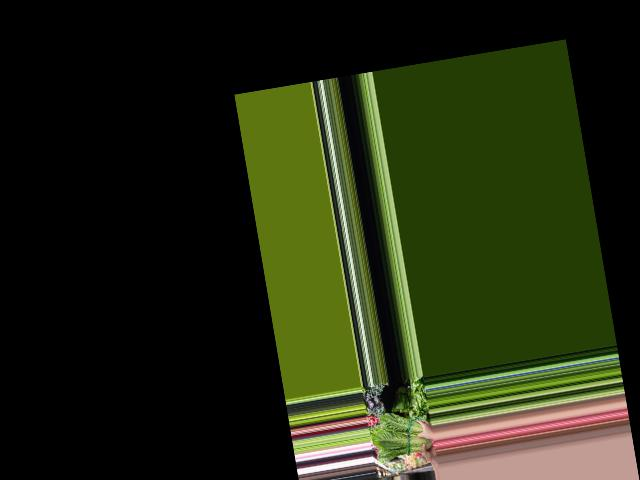lettuce: (370, 405, 437, 461)
